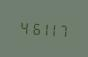four: (18, 18, 27, 35)
one: (38, 19, 47, 37), (48, 20, 57, 37)
seven: (58, 21, 67, 38)
six: (28, 18, 37, 36)
